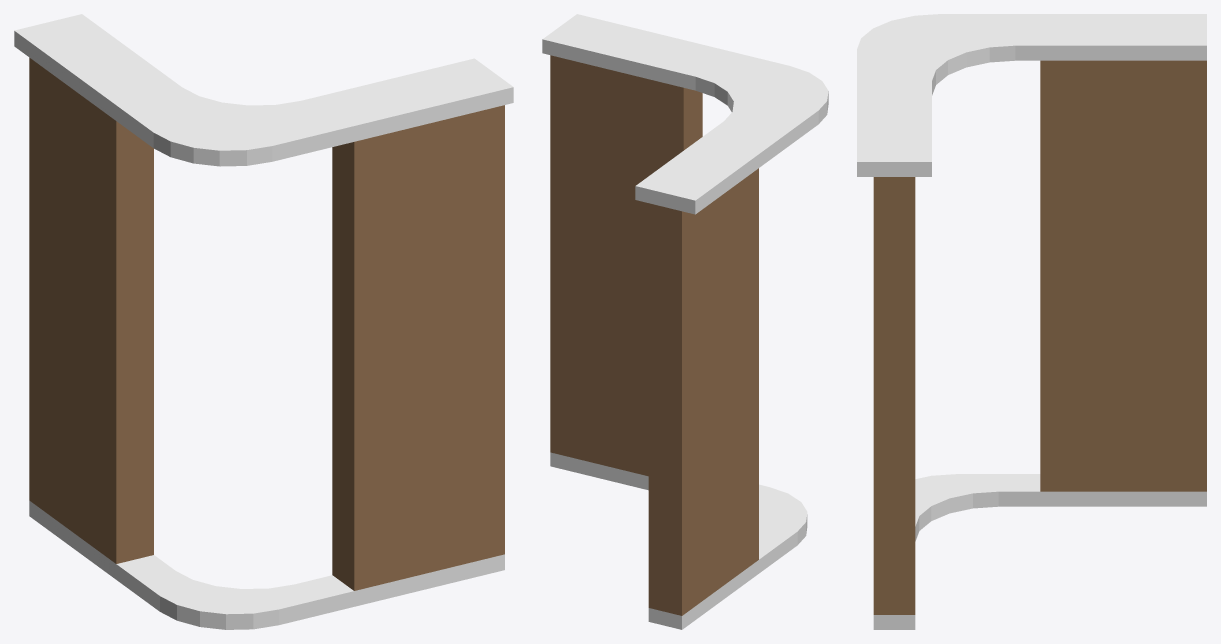
The model's file is SM_200x300_HighWindow_CurvelCorner.fbx.
The picture shows the model from 3 angles, left to right: view 1: azimuth 30°, elevation 25°; view 2: azimuth 150°, elevation 25°; view 3: azimuth 270°, elevation 25°; orthographic projection. The views are drawn at different scales.
Parts seen in each view (by area): view 1: SM_200x300_HighWindow_CurveCorner; view 2: SM_200x300_HighWindow_CurveCorner; view 3: SM_200x300_HighWindow_CurveCorner.
Boxes of the visible parts, left/top/right/bottom form: SM_200x300_HighWindow_CurveCorner: left=14, top=14, right=513, bottom=629; SM_200x300_HighWindow_CurveCorner: left=542, top=14, right=828, bottom=629; SM_200x300_HighWindow_CurveCorner: left=857, top=14, right=1206, bottom=629.
Size of what is drawn, in the model's own units: 210 by 210 by 310.
